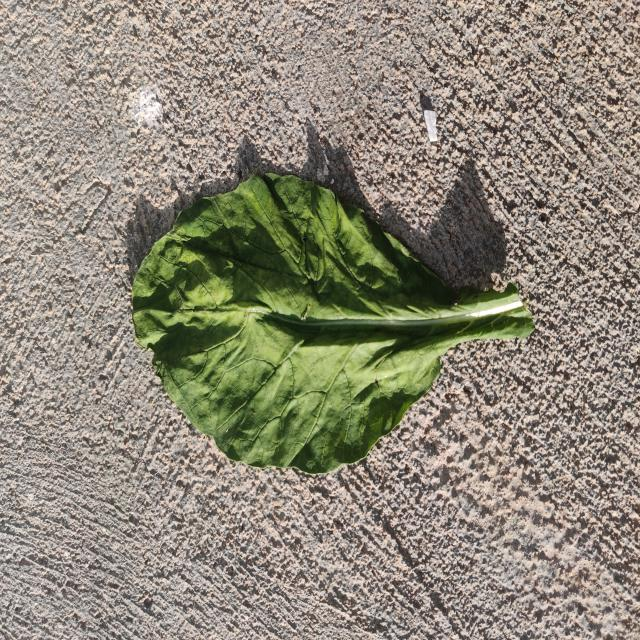raddish: (132, 173, 534, 473)
